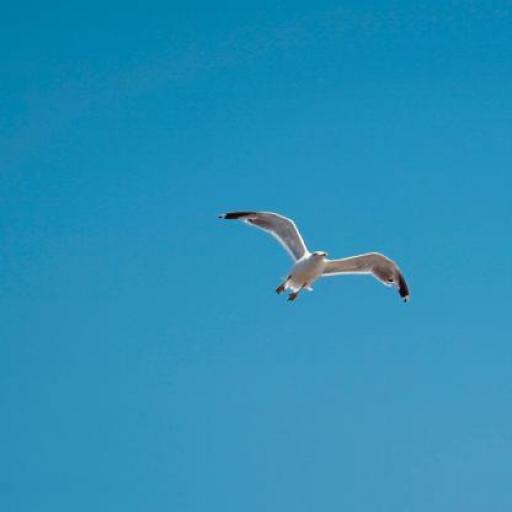bird: (217, 212, 409, 304)
